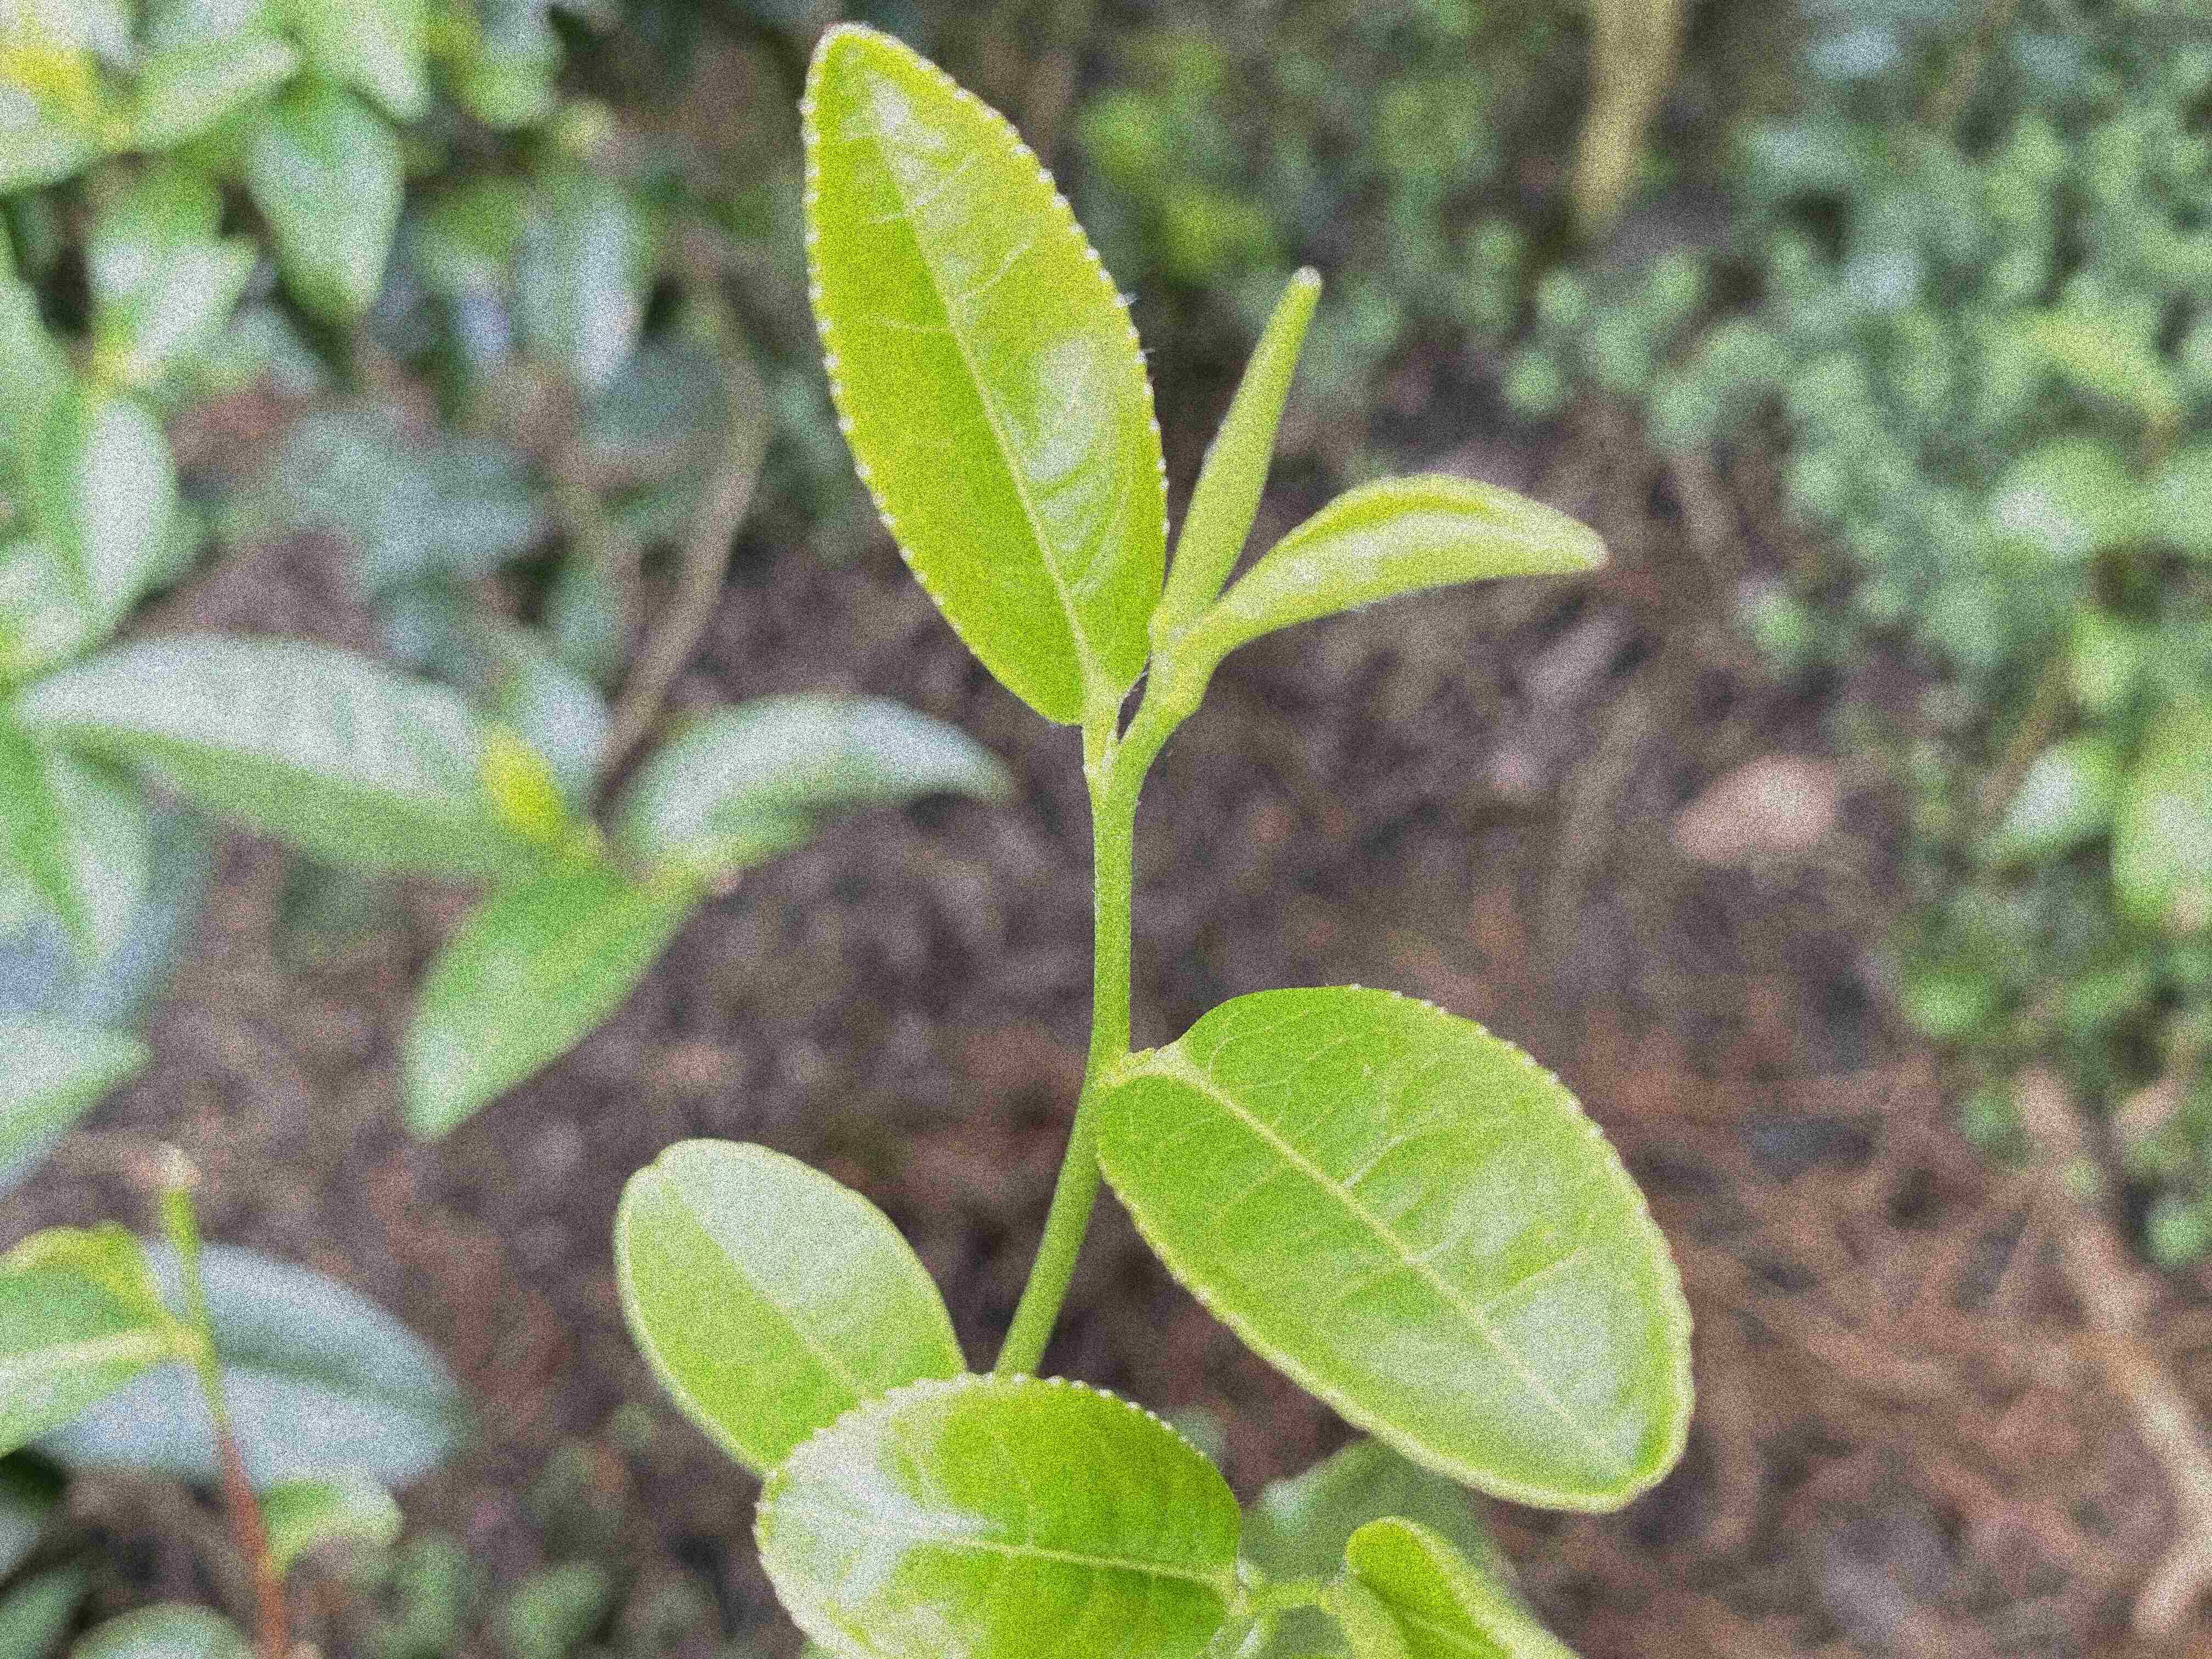healthy: (1092, 983, 1693, 1516), (799, 30, 1172, 723), (752, 1371, 1244, 1656), (610, 1133, 970, 1474)
